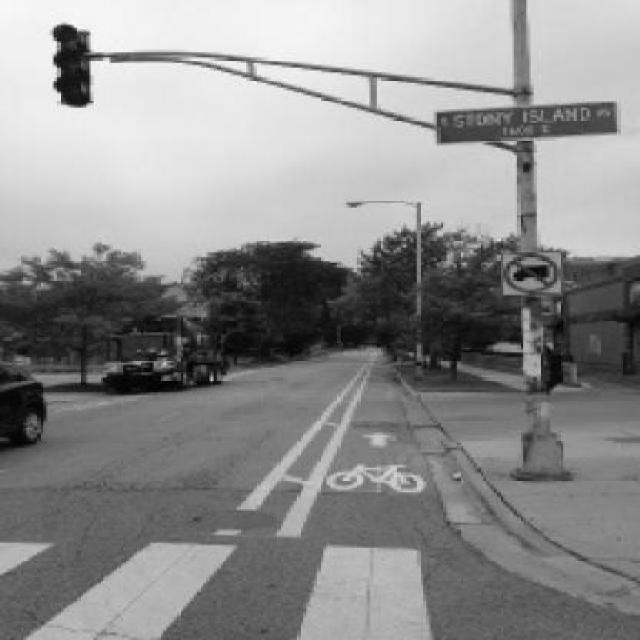Garbage Truck: (103, 314, 232, 393)
